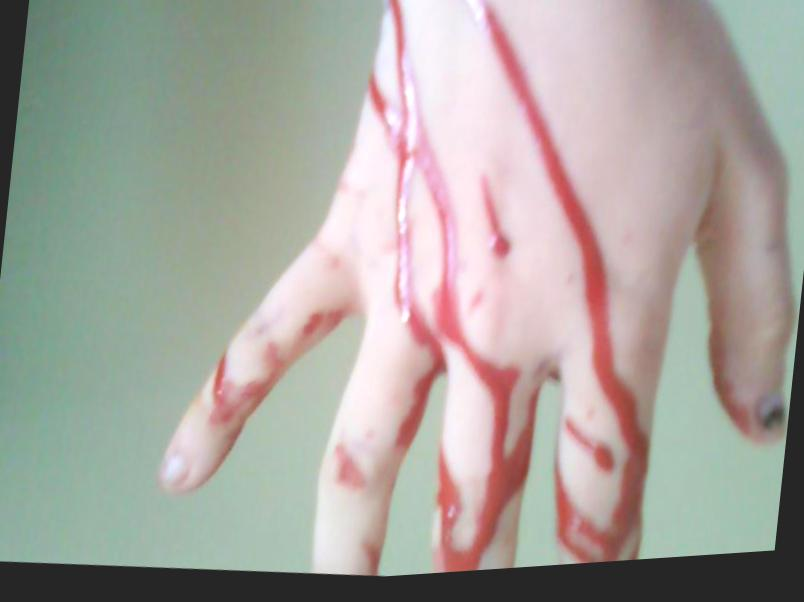Fire: (444, 0, 649, 474), (368, 0, 513, 394), (555, 418, 650, 573), (480, 375, 540, 531), (435, 457, 498, 579), (208, 355, 272, 446), (394, 369, 444, 460), (709, 337, 749, 446), (480, 183, 512, 267), (300, 313, 351, 351), (332, 450, 364, 496), (363, 550, 382, 581)
